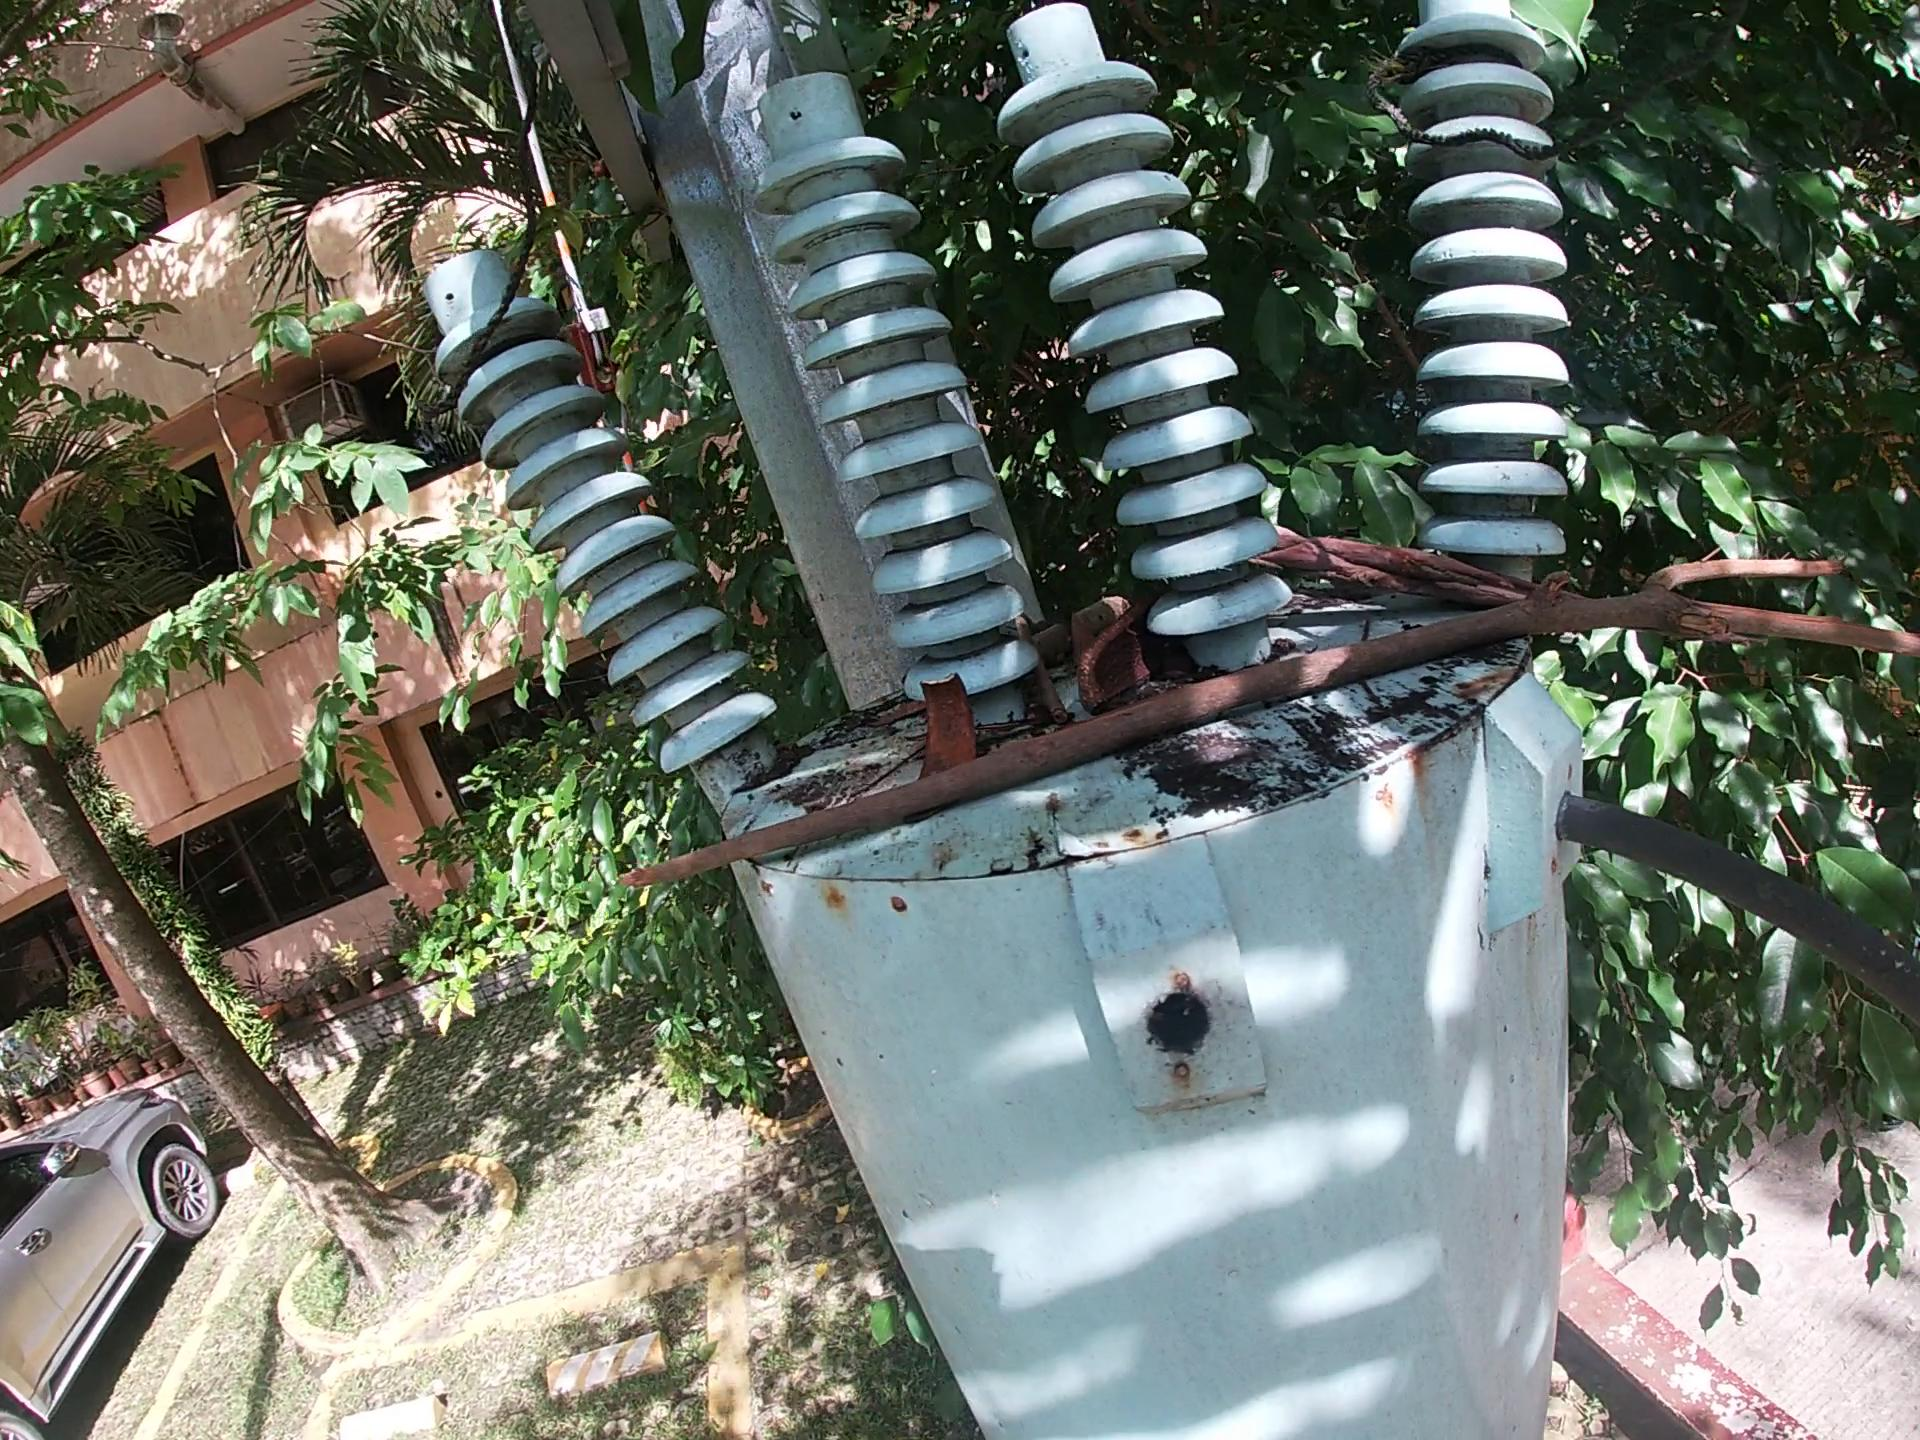mahogany fruit: (1069, 610, 1160, 722), (915, 669, 986, 785)
tree branch: (602, 548, 1920, 902), (1255, 525, 1746, 653), (1002, 608, 1073, 740)
